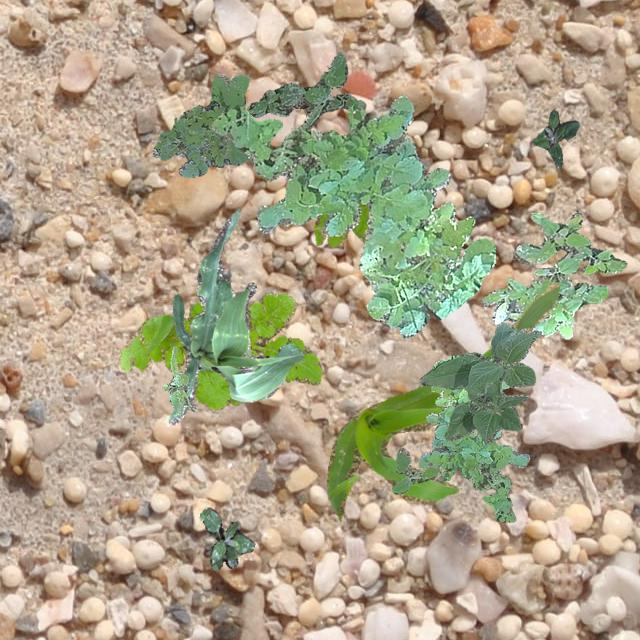crop: (326, 282, 558, 520), (168, 208, 304, 424), (418, 322, 538, 444), (244, 344, 252, 356)
weed: (210, 94, 494, 336), (118, 292, 322, 409), (418, 354, 528, 522), (482, 210, 626, 338), (152, 74, 248, 176), (246, 51, 356, 128), (198, 506, 254, 570), (532, 108, 578, 166), (312, 200, 368, 247), (392, 446, 441, 492), (162, 346, 194, 414)
